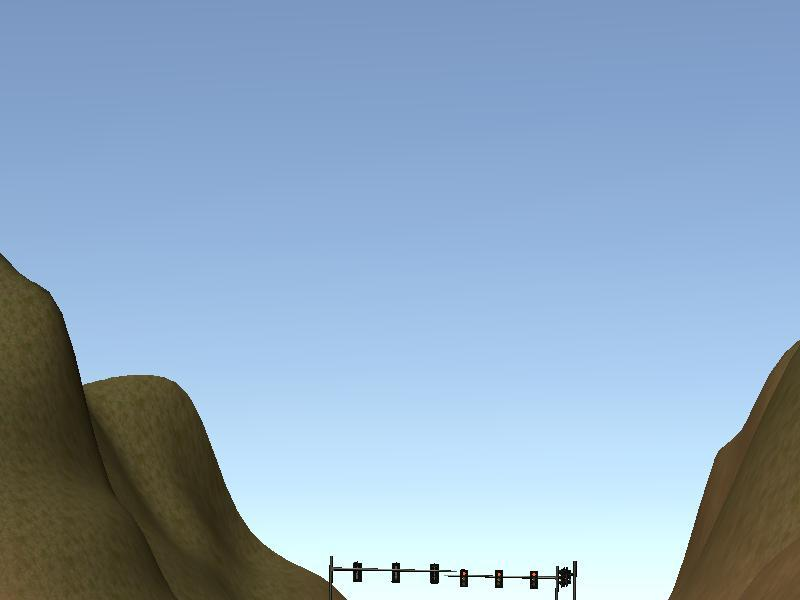Red: (529, 570, 538, 590), (459, 569, 468, 587), (493, 569, 502, 587)
